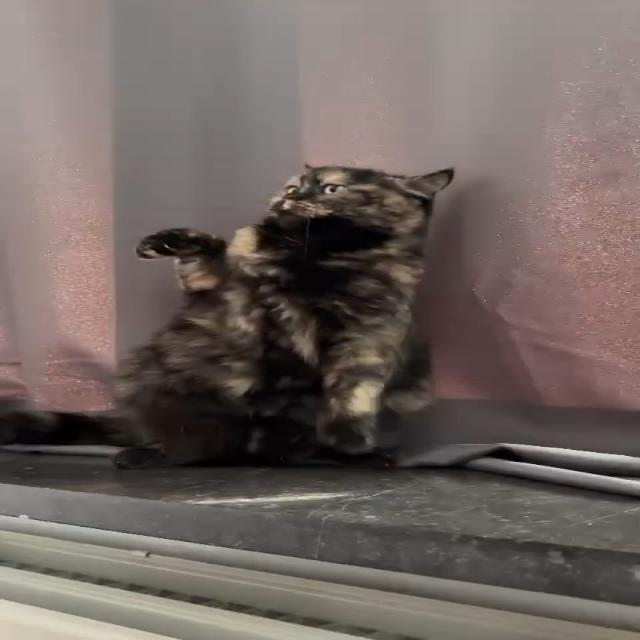authorized: (104, 162, 455, 468)
